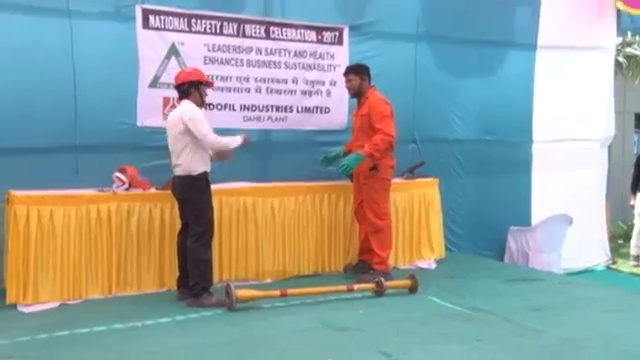helmet: (172, 65, 215, 89)
helmet_off: (343, 63, 372, 98)
helmet_on: (172, 65, 214, 109)
person: (163, 65, 229, 309), (343, 63, 398, 283)
